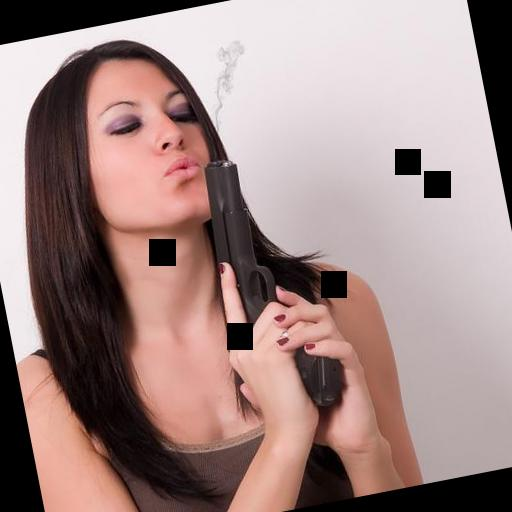Handgun: (194, 145, 348, 422)
